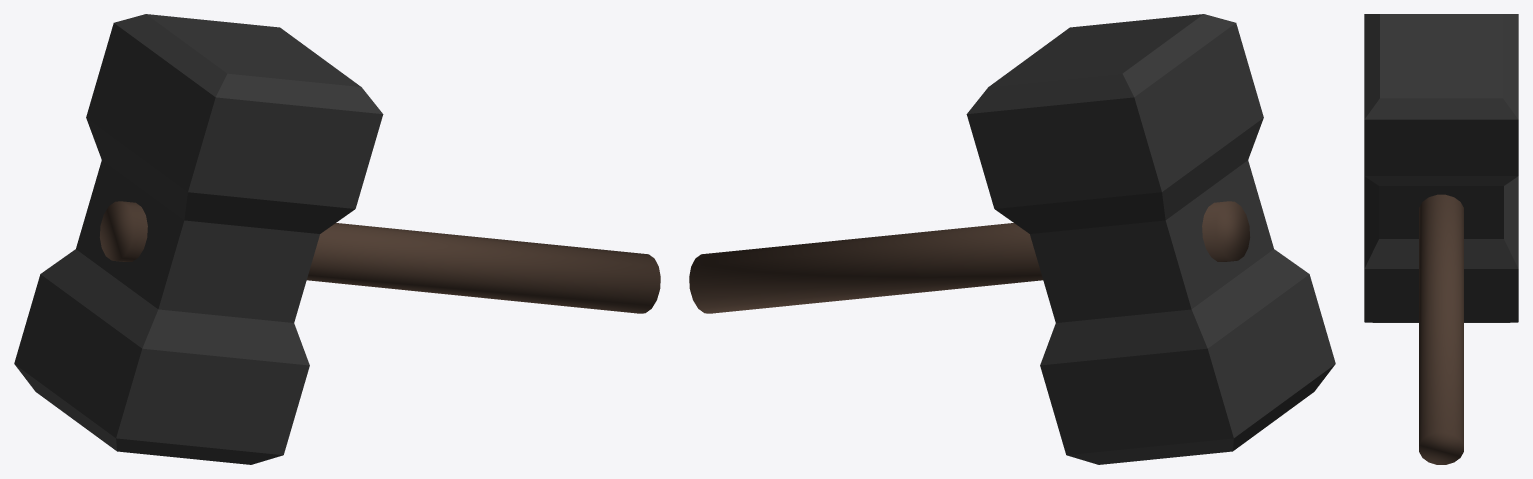
Rendered from Hammer.fbx.
3 views of the same model, side by side, from view 1: azimuth 30°, elevation 25°; view 2: azimuth 150°, elevation 25°; view 3: azimuth 270°, elevation 25° (orthographic). The views are drawn at different scales.
Visible parts, largest first — view 1: Hammer; view 2: Hammer; view 3: Hammer.
Part boxes in pixels (x1,y1,x2,y2): Hammer: [14, 14, 660, 464]; Hammer: [689, 14, 1335, 464]; Hammer: [1364, 14, 1518, 464].
Size of the model in its own units: 319 by 206 by 96.
